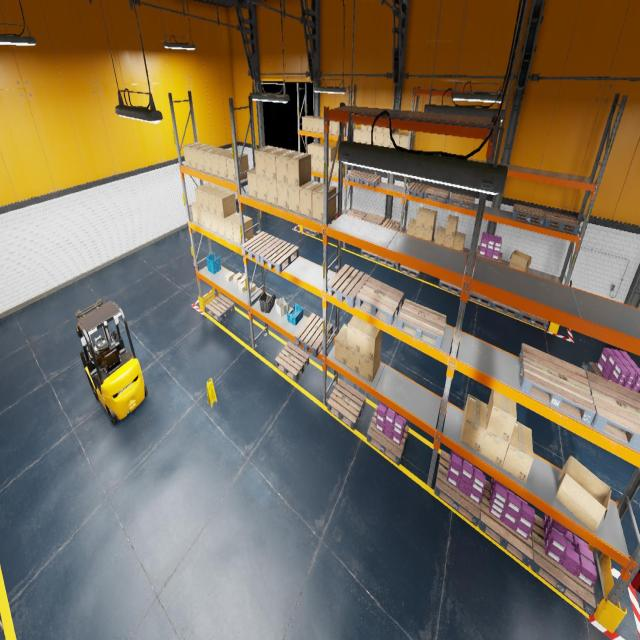box: (556, 456, 611, 532), (502, 421, 534, 482), (481, 405, 508, 467), (460, 394, 488, 453), (487, 389, 516, 444), (312, 184, 336, 222), (299, 180, 323, 218), (360, 322, 382, 361), (275, 149, 299, 184), (287, 152, 311, 186), (359, 345, 381, 382), (265, 148, 288, 180), (347, 315, 366, 353), (255, 145, 277, 177), (226, 152, 248, 182), (232, 215, 253, 245), (334, 324, 348, 366), (215, 190, 236, 218), (218, 150, 238, 179), (224, 212, 244, 241), (210, 148, 230, 176), (202, 147, 222, 174), (208, 188, 227, 215), (509, 249, 531, 272), (196, 145, 215, 171), (189, 144, 208, 170), (201, 186, 220, 212), (183, 142, 202, 167), (195, 183, 213, 209), (346, 345, 360, 374), (288, 184, 300, 213), (247, 168, 258, 198), (266, 178, 278, 205), (256, 176, 268, 202), (277, 181, 288, 209), (446, 214, 458, 237), (424, 209, 437, 230), (453, 232, 466, 251), (416, 207, 428, 227), (434, 226, 446, 245), (399, 133, 412, 149), (391, 132, 403, 148), (217, 216, 226, 237), (191, 201, 199, 224), (443, 234, 456, 248), (210, 213, 219, 233), (203, 210, 212, 230), (423, 226, 435, 241), (337, 162, 348, 178), (407, 218, 416, 236), (197, 207, 205, 227), (313, 143, 323, 159), (308, 142, 318, 158), (308, 116, 318, 132), (319, 145, 329, 160), (314, 117, 324, 132), (302, 116, 312, 130), (331, 159, 338, 176), (338, 122, 346, 136), (376, 132, 384, 146), (383, 133, 391, 147), (246, 283, 256, 294), (415, 226, 424, 238), (361, 130, 368, 144), (354, 128, 361, 142), (238, 281, 246, 293), (368, 132, 376, 144), (331, 122, 338, 135), (329, 146, 335, 161), (238, 273, 245, 285), (226, 272, 234, 282), (234, 272, 242, 282), (313, 158, 319, 171), (384, 128, 395, 134), (320, 118, 324, 133), (368, 125, 376, 132), (319, 160, 323, 172), (376, 127, 384, 133), (328, 162, 331, 174), (361, 125, 368, 130), (329, 121, 331, 134), (311, 158, 313, 170)
forklift: (75, 299, 147, 425)
pallets: (530, 514, 596, 615), (519, 343, 596, 426), (478, 479, 533, 566), (586, 371, 640, 451), (434, 450, 480, 526), (366, 406, 408, 466), (397, 299, 446, 349), (356, 276, 404, 324), (327, 379, 366, 430), (327, 264, 370, 308), (295, 314, 332, 358), (275, 341, 309, 382), (260, 240, 299, 274), (241, 232, 279, 262), (544, 210, 580, 234), (206, 294, 234, 322), (513, 204, 545, 226), (518, 310, 549, 330), (492, 299, 519, 318), (449, 192, 475, 210), (476, 246, 502, 264), (424, 186, 450, 203), (468, 290, 492, 308), (406, 182, 429, 198), (439, 279, 462, 295), (346, 170, 367, 184), (360, 173, 381, 187), (586, 362, 604, 378), (400, 264, 420, 278), (363, 213, 385, 225), (378, 255, 397, 268), (382, 218, 400, 231), (346, 209, 367, 219), (361, 249, 378, 261), (304, 227, 320, 236)
